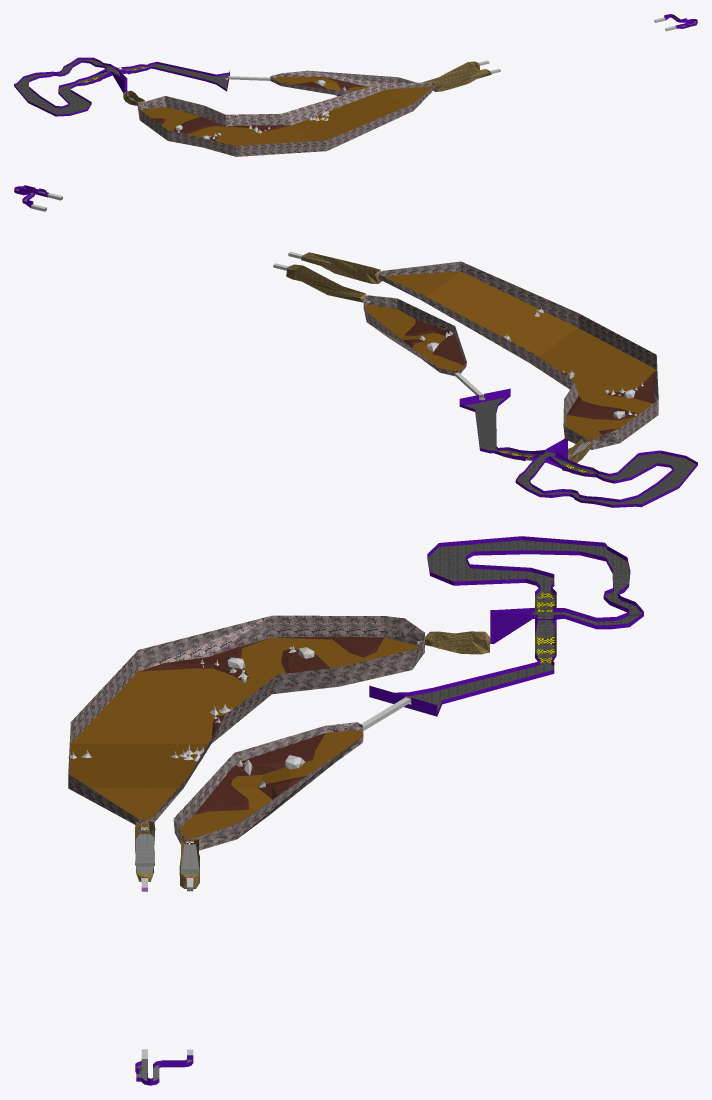
Rendered from KCL.obj.
3 views of the same model, one above another, from view 1: azimuth 30°, elevation 25°; view 2: azimuth 150°, elevation 25°; view 3: azimuth 270°, elevation 25° (orthographic). The views are drawn at different scales.
Parts seen in each view (by area): view 1: KCL-SKP--Tex_0078_0_dds1, KCL-SKP--Tex_0080_0_dds1, KCL-SKP--InvisWall_0x0C, KCL-SKP--Tex_0120_0_dds, KCL-SKP--Tex_0044_0_dds1, KCL-SKP--Tex_0054_0_dds1, KCL-SKP--Tex_0008_0_dds, KCL-SKP--Tex_0058_0_dds1; view 2: KCL-SKP--Tex_0080_0_dds1, KCL-SKP--Tex_0078_0_dds1, KCL-SKP--Tex_0120_0_dds, KCL-SKP--InvisWall_0x0C, KCL-SKP--Tex_0044_0_dds1, KCL-SKP--Tex_0054_0_dds1, KCL-SKP--Tex_0058_0_dds1, KCL-SKP--Tex_0008_0_dds; view 3: KCL-SKP--Tex_0080_0_dds1, KCL-SKP--Tex_0078_0_dds1, KCL-SKP--InvisWall_0x0C, KCL-SKP--Tex_0120_0_dds, KCL-SKP--Tex_0054_0_dds1, KCL-SKP--Tex_0044_0_dds1, KCL-SKP--Tex_0058_0_dds1, KCL-SKP--Tex_0046_0_dds1.
Boxes of the visible parts, bbox=[...] form: KCL-SKP--Tex_0078_0_dds1: bbox=[137, 70, 435, 156]; KCL-SKP--Tex_0080_0_dds1: bbox=[141, 77, 432, 145]; KCL-SKP--InvisWall_0x0C: bbox=[14, 14, 697, 116]; KCL-SKP--Tex_0120_0_dds: bbox=[15, 59, 228, 114]; KCL-SKP--Tex_0044_0_dds1: bbox=[123, 61, 491, 105]; KCL-SKP--Tex_0054_0_dds1: bbox=[152, 77, 363, 140]; KCL-SKP--Tex_0008_0_dds: bbox=[141, 17, 676, 107]; KCL-SKP--Tex_0058_0_dds1: bbox=[175, 80, 353, 139]; KCL-SKP--Tex_0080_0_dds1: bbox=[364, 271, 656, 442]; KCL-SKP--Tex_0078_0_dds1: bbox=[363, 261, 658, 449]; KCL-SKP--Tex_0120_0_dds: bbox=[465, 397, 695, 504]; KCL-SKP--InvisWall_0x0C: bbox=[14, 185, 697, 507]; KCL-SKP--Tex_0044_0_dds1: bbox=[286, 252, 592, 462]; KCL-SKP--Tex_0054_0_dds1: bbox=[403, 320, 656, 435]; KCL-SKP--Tex_0058_0_dds1: bbox=[419, 307, 643, 418]; KCL-SKP--Tex_0008_0_dds: bbox=[31, 193, 484, 400]; KCL-SKP--Tex_0080_0_dds1: bbox=[69, 637, 417, 841]; KCL-SKP--Tex_0078_0_dds1: bbox=[68, 615, 424, 850]; KCL-SKP--InvisWall_0x0C: bbox=[135, 536, 643, 1085]; KCL-SKP--Tex_0120_0_dds: bbox=[405, 540, 641, 711]; KCL-SKP--Tex_0054_0_dds1: bbox=[139, 636, 383, 814]; KCL-SKP--Tex_0044_0_dds1: bbox=[135, 631, 489, 888]; KCL-SKP--Tex_0058_0_dds1: bbox=[68, 645, 314, 787]; KCL-SKP--Tex_0046_0_dds1: bbox=[135, 639, 433, 873].
Size of the model in its own units: 118814 by 5367 by 51414.
